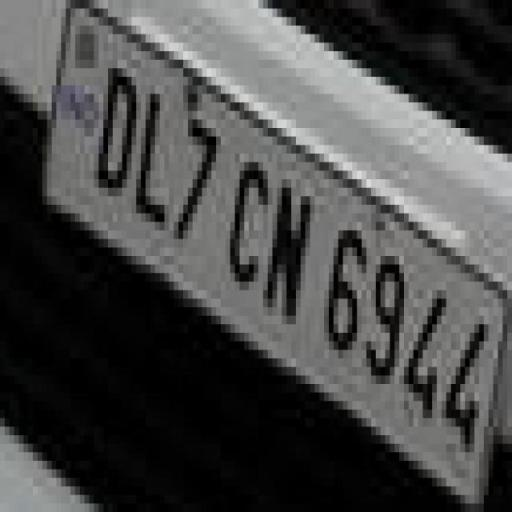number plate: (14, 16, 475, 470)
